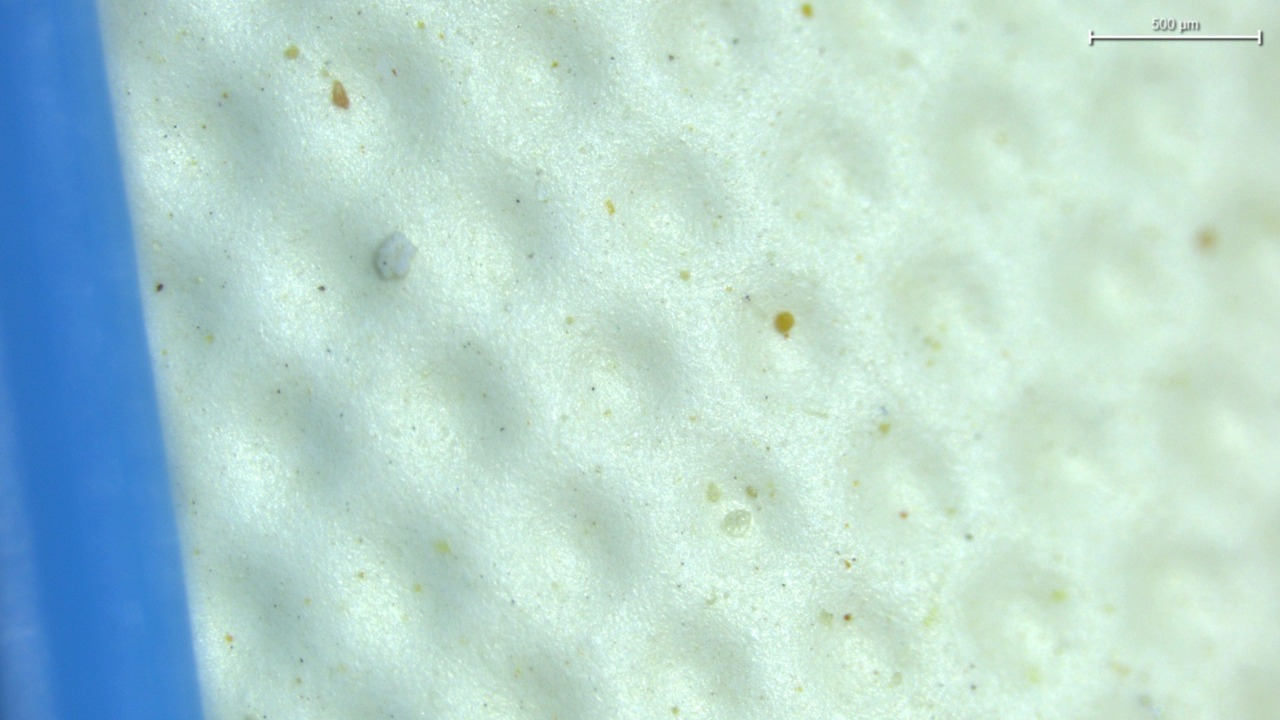microplastic_fragment: (375, 232, 416, 279)
